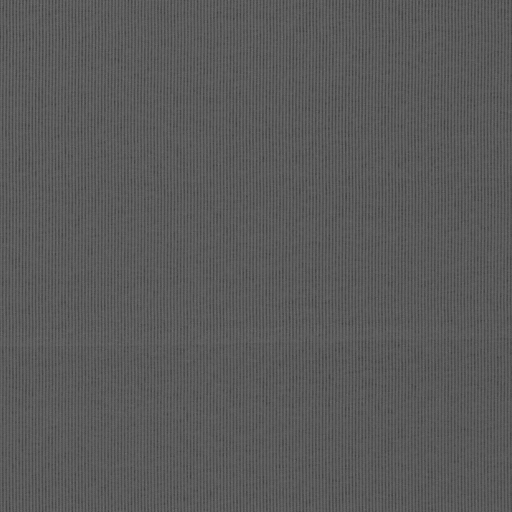defect: (1, 331, 512, 351)
